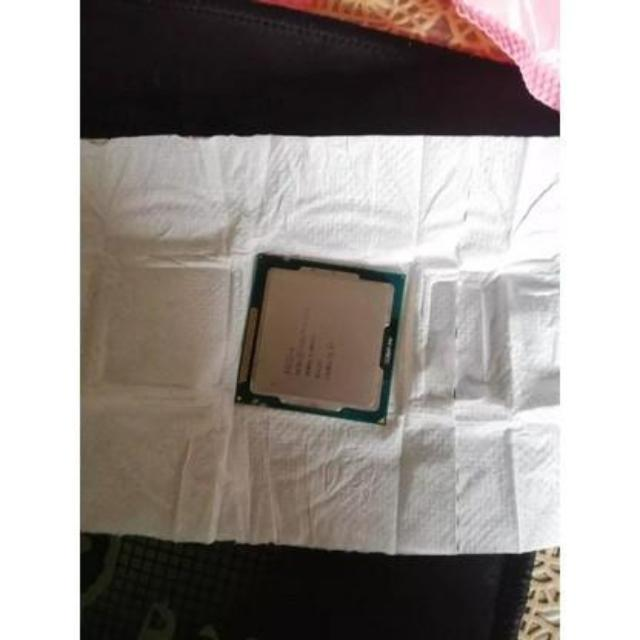CPU: (242, 255, 400, 423)
